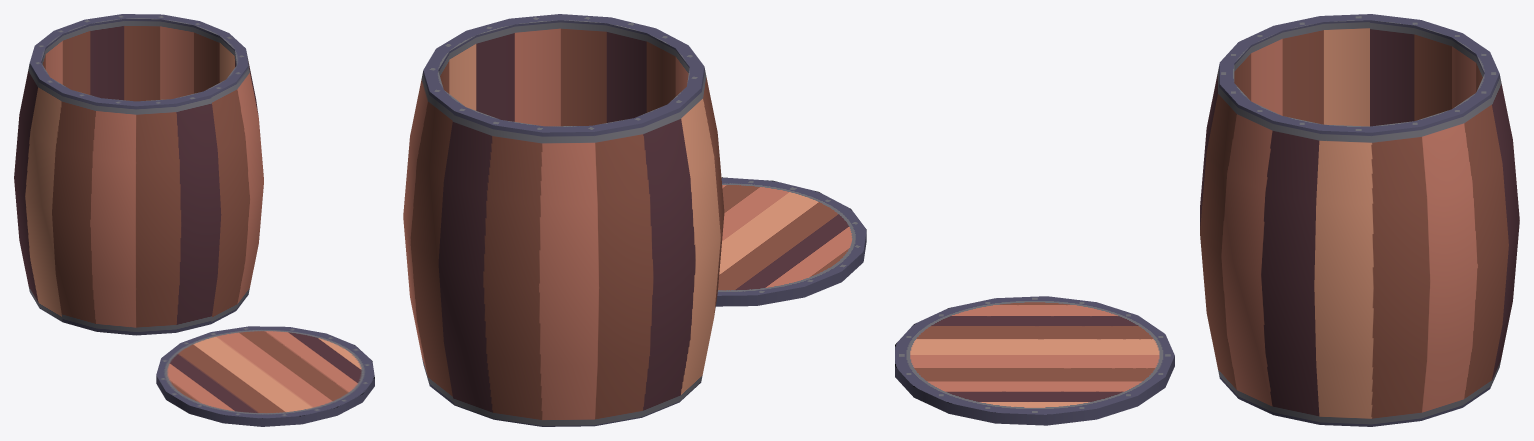
The model's file is Barrel.fbx.
The picture shows the model from 3 angles, left to right: view 1: azimuth 30°, elevation 25°; view 2: azimuth 150°, elevation 25°; view 3: azimuth 270°, elevation 25°; orthographic projection. The views are drawn at different scales.
Visible parts, largest first — view 1: Cylinder, Cylinder.001; view 2: Cylinder, Cylinder.001; view 3: Cylinder, Cylinder.001.
Part boxes in pixels (left/top/right/bottom): Cylinder: left=14, top=14, right=263, bottom=335; Cylinder.001: left=156, top=326, right=374, bottom=426; Cylinder: left=403, top=14, right=724, bottom=426; Cylinder.001: left=715, top=177, right=866, bottom=306; Cylinder: left=1200, top=14, right=1519, bottom=426; Cylinder.001: left=895, top=296, right=1174, bottom=425.
Size of the model in its own units: 257 by 260 by 500.
